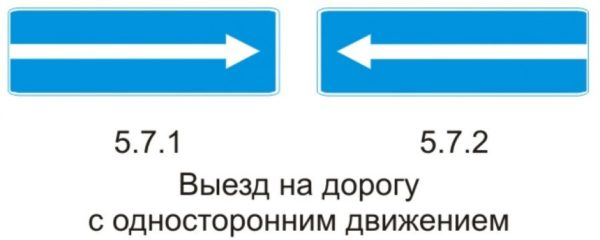One-Way Traffic: (319, 8, 588, 95), (9, 8, 278, 94)
